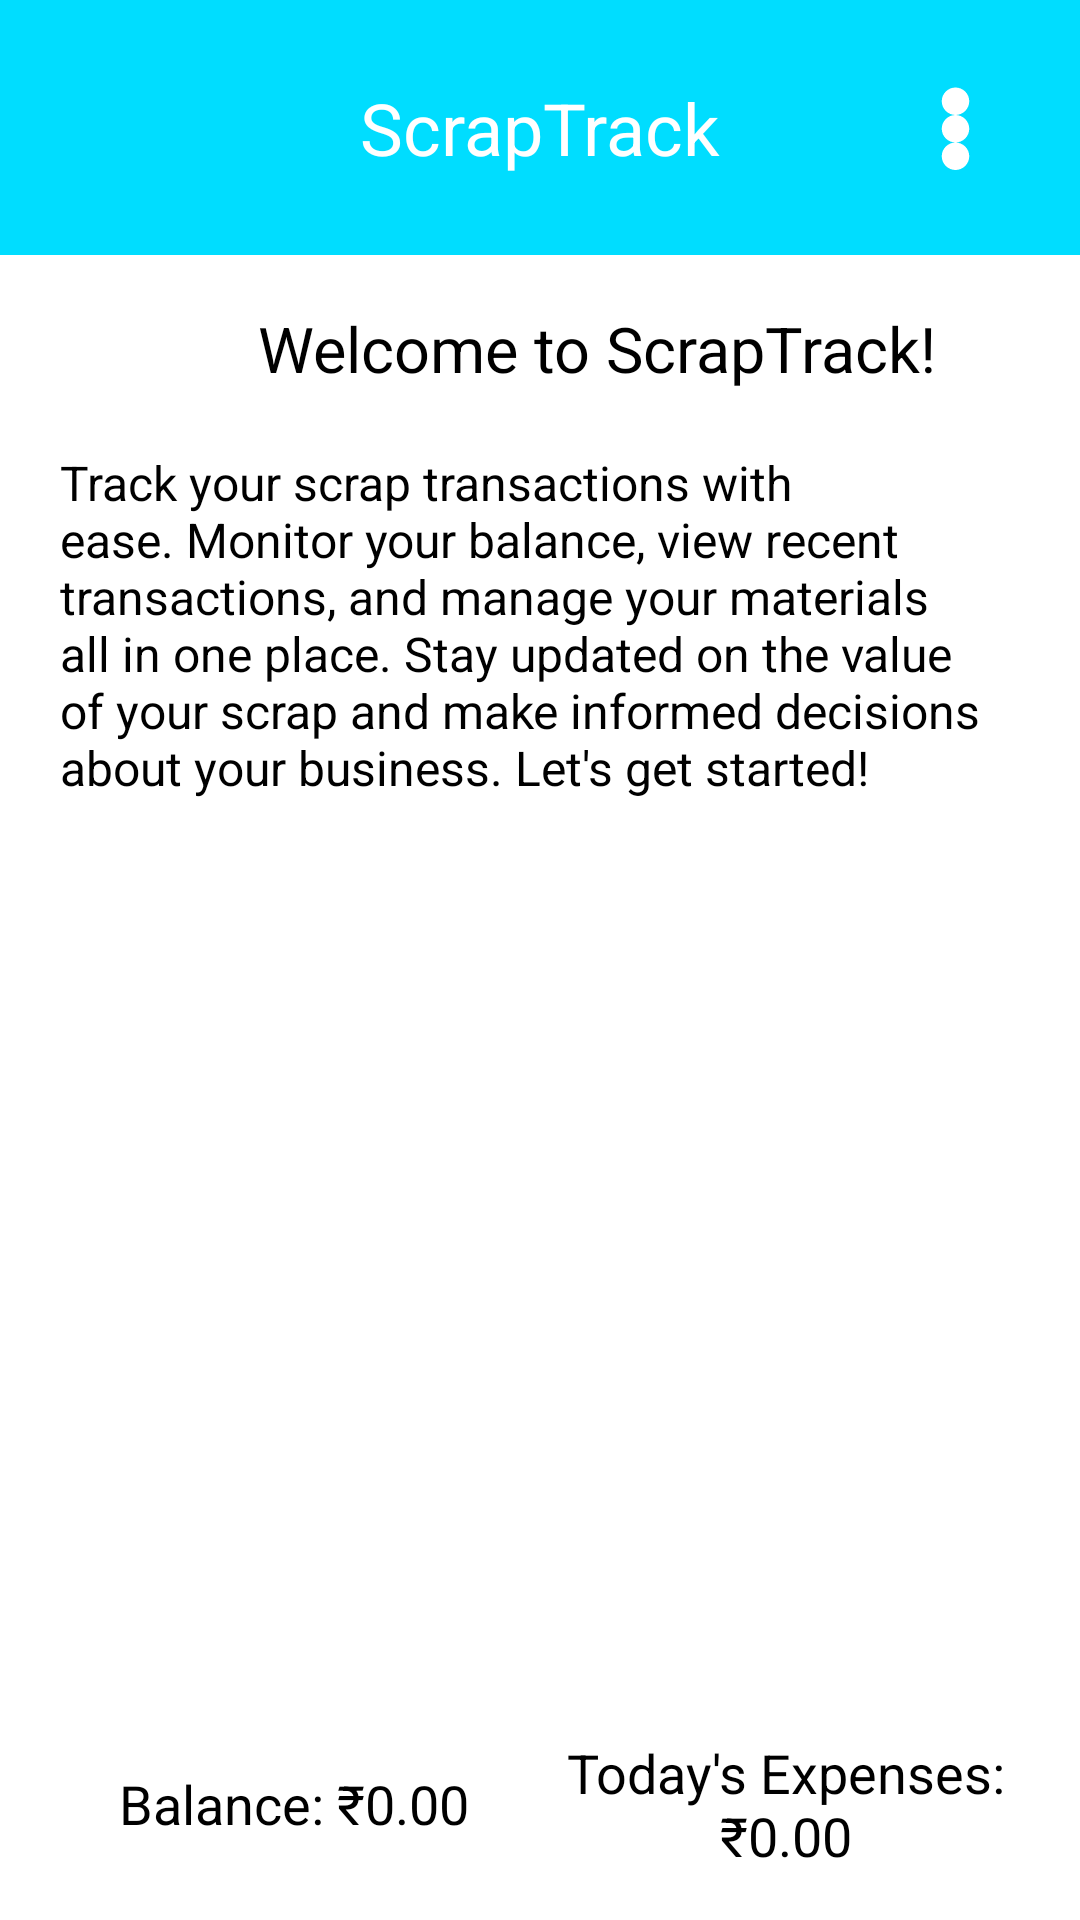

Where to tap for icons on this 1080*1920 app screen, as point (x, y):
Menu: point (955, 128)
